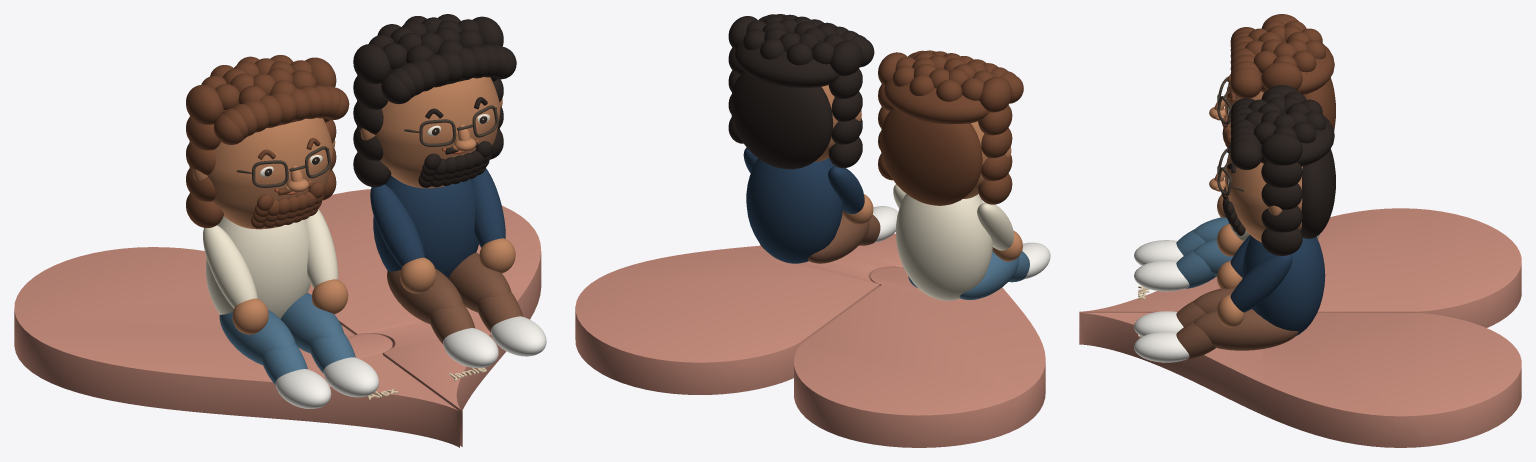
The picture shows the model from 3 angles, left to right: view 1: azimuth 30°, elevation 25°; view 2: azimuth 150°, elevation 25°; view 3: azimuth 270°, elevation 25°; orthographic projection. The views are drawn at different scales.
Visible parts, largest first — view 1: HEART_BASE_LEFT, HEART_BASE_RIGHT, HEAD_RIGHT, HEAD_LEFT, BODY_LEFT, BODY_RIGHT, ARM_left_0, ARM_right_0, THIGH_right_0, THIGH_left_1, THIGH_left_0, THIGH_right_1 (+28 smaller); view 2: HEART_BASE_LEFT, HEART_BASE_RIGHT, BODY_LEFT, BODY_RIGHT, HAIR_BACK_left, HAIR_BACK_right, HAIR_CAP_right, HAIR_CAP_left, THIGH_right_0, THIGH_left_0, ARM_left_0, ARM_right_0 (+16 smaller); view 3: HEART_BASE_RIGHT, HEART_BASE_LEFT, BODY_RIGHT, THIGH_right_1, HAIR_BACK_right, HEAD_RIGHT, ARM_right_1, SHOE_left_1, SHOE_right_1, CURL_SIDE_right_1_4, CURL_SIDE_left_1_4, HAIR_CAP_right (+18 smaller).
Part boxes in pixels (x1,y1,x2,y2): HEART_BASE_LEFT: [14, 247, 459, 447]; HEART_BASE_RIGHT: [307, 189, 541, 446]; HEAD_RIGHT: [375, 77, 500, 188]; HEAD_LEFT: [208, 117, 332, 229]; BODY_LEFT: [206, 216, 310, 318]; BODY_RIGHT: [373, 175, 478, 277]; ARM_left_0: [203, 225, 257, 308]; ARM_right_0: [370, 184, 425, 267]; THIGH_right_0: [387, 269, 463, 323]; THIGH_left_1: [281, 293, 343, 353]; THIGH_left_0: [219, 310, 295, 364]; THIGH_right_1: [448, 252, 511, 312]; HEART_BASE_LEFT: [794, 267, 1045, 447]; HEART_BASE_RIGHT: [575, 233, 903, 394]; BODY_LEFT: [896, 194, 992, 300]; BODY_RIGHT: [746, 158, 843, 263]; HAIR_BACK_left: [880, 107, 982, 205]; HAIR_BACK_right: [730, 71, 833, 169]; HAIR_CAP_right: [734, 42, 839, 87]; HAIR_CAP_left: [884, 79, 989, 124]; THIGH_right_0: [808, 214, 869, 263]; THIGH_left_0: [959, 251, 1019, 299]; ARM_left_0: [977, 202, 1013, 250]; ARM_right_0: [828, 166, 864, 213]; HEART_BASE_RIGHT: [1079, 313, 1521, 447]; HEART_BASE_LEFT: [1079, 208, 1521, 327]; BODY_RIGHT: [1242, 236, 1325, 335]; THIGH_right_1: [1194, 309, 1298, 350]; HAIR_BACK_right: [1300, 149, 1335, 238]; HEAD_RIGHT: [1225, 153, 1302, 242]; ARM_right_1: [1230, 254, 1292, 312]; SHOE_left_1: [1134, 260, 1189, 291]; SHOE_right_1: [1134, 331, 1189, 362]; CURL_SIDE_right_1_4: [1261, 132, 1302, 165]; CURL_SIDE_left_1_4: [1261, 61, 1302, 90]; HAIR_CAP_right: [1261, 112, 1334, 166].
Size of the model in its own units: 4.5 by 2.76 by 4.05.
